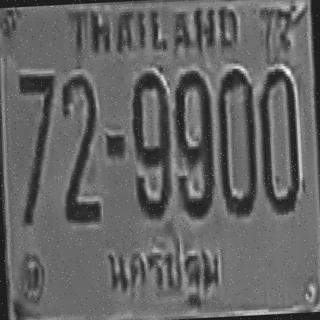N00: (215, 66, 259, 216), (256, 66, 300, 213)
N02: (56, 71, 100, 221)
N07: (15, 69, 61, 225)
N09: (172, 68, 216, 218), (130, 70, 174, 217)
P28: (100, 232, 230, 316)
